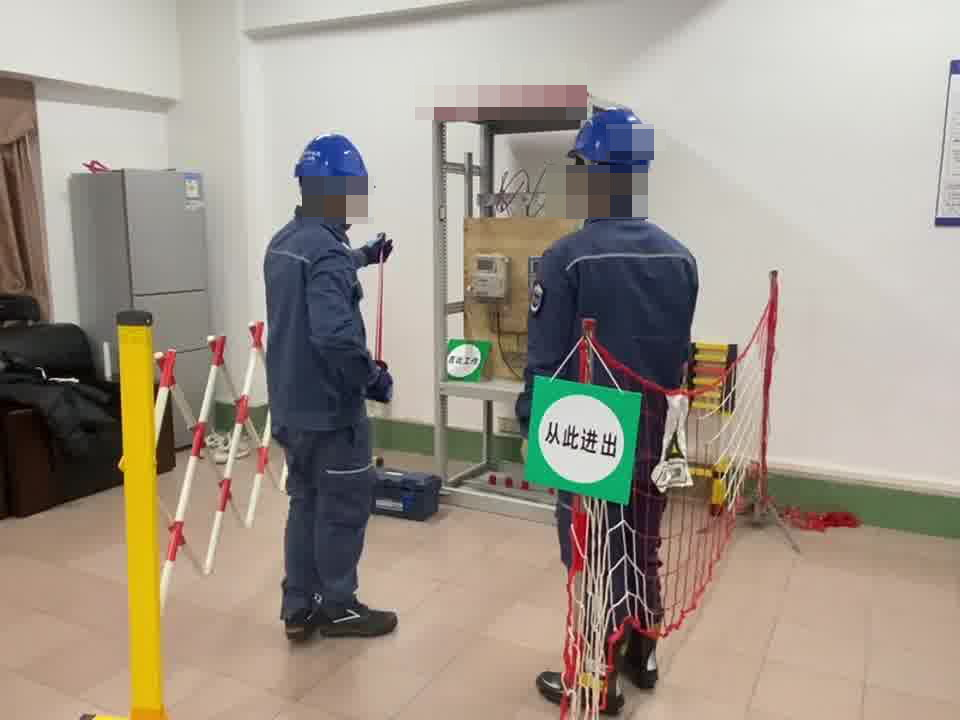downsuit: (279, 438, 379, 615)
glove: (366, 366, 396, 406), (363, 232, 394, 264)
halt: (567, 108, 654, 206), (292, 133, 375, 224)
inear: (334, 179, 361, 219), (571, 161, 594, 203)
intosign: (532, 380, 641, 507)
person: (516, 103, 707, 712), (253, 132, 402, 646)
shoe: (534, 609, 662, 719)
sleeve: (527, 283, 545, 313)
testrod: (374, 235, 385, 358)
upsuit: (525, 210, 698, 396), (262, 215, 382, 428)
worksign: (446, 340, 488, 380)
